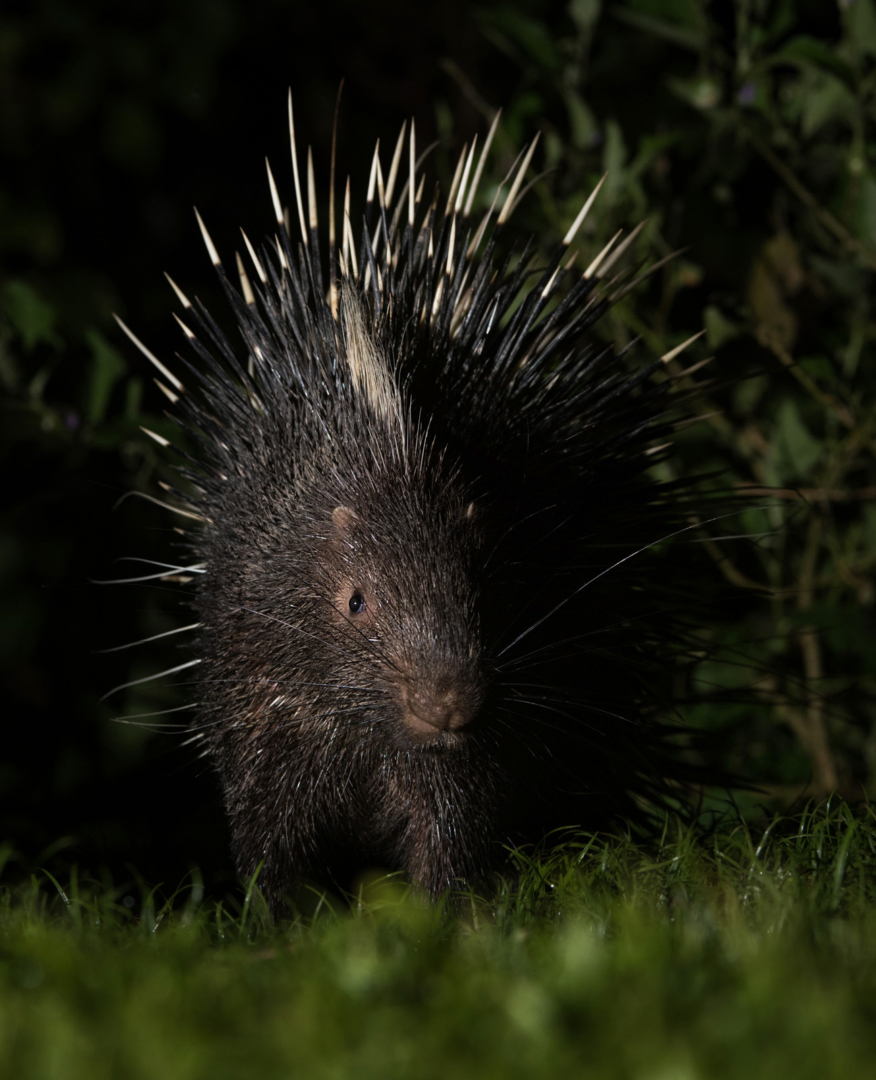porcupine: (71, 95, 745, 904)
